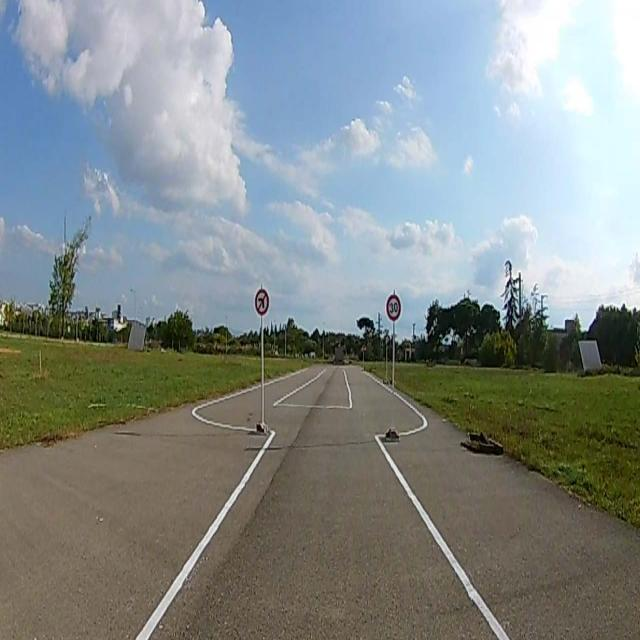30: (386, 295, 401, 321)
soladonulmez: (255, 290, 269, 314)
